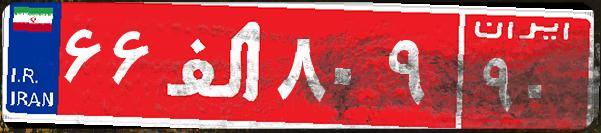0: (330, 28, 385, 110), (525, 38, 570, 115)
6: (57, 26, 110, 107), (110, 28, 158, 105)
8: (273, 28, 330, 110)
9: (385, 28, 445, 110), (475, 38, 525, 113)
الف: (158, 15, 273, 115)
